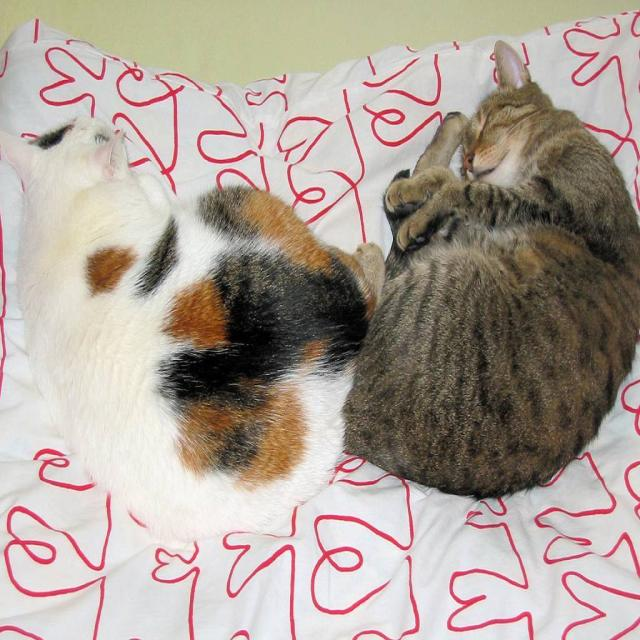Cat: (0, 99, 381, 530), (344, 36, 639, 501)
